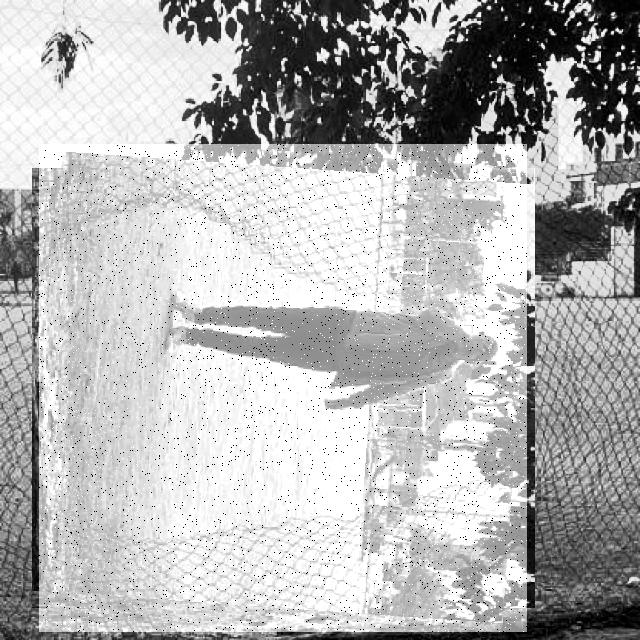anomaly-fence: (39, 144, 527, 632)
